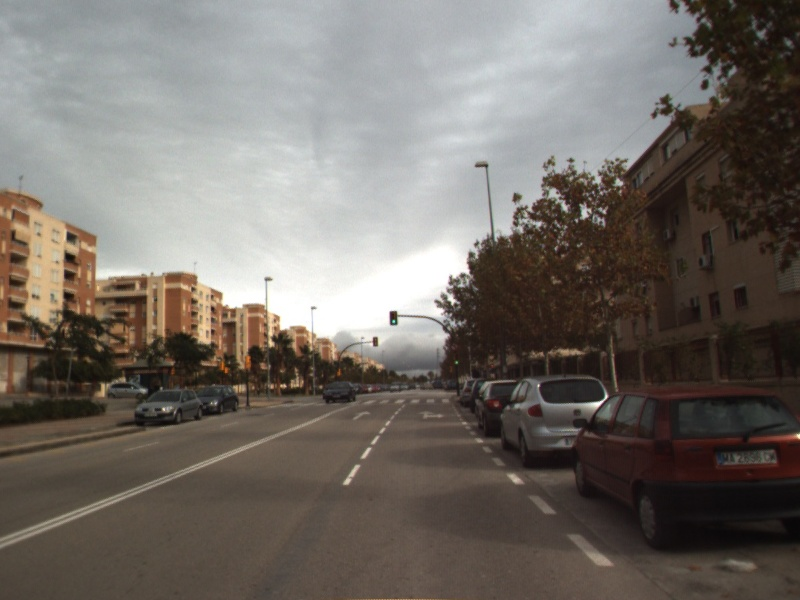STRAIGHT: (350, 409, 373, 422)
STRAIGHT_RIGHT: (415, 409, 447, 421)
